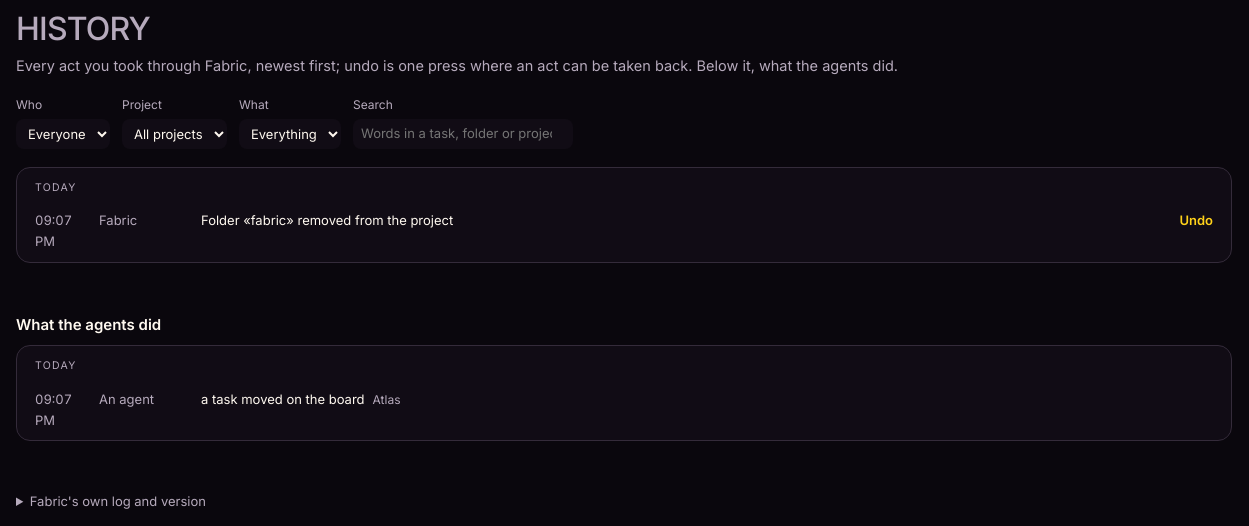
Test: История filters and the act in full (CO-414) › iteration 3 UX-1: «Кто» that matches no agent work says «nothing found» with «Сбросить фильтры», never «the journal is empty»
Check: the list named "Acts" is shown, box [16,167,1232,263]
Select "Fabric" in the dropdown labelled "Who" at (63,134), box [16,119,110,149]
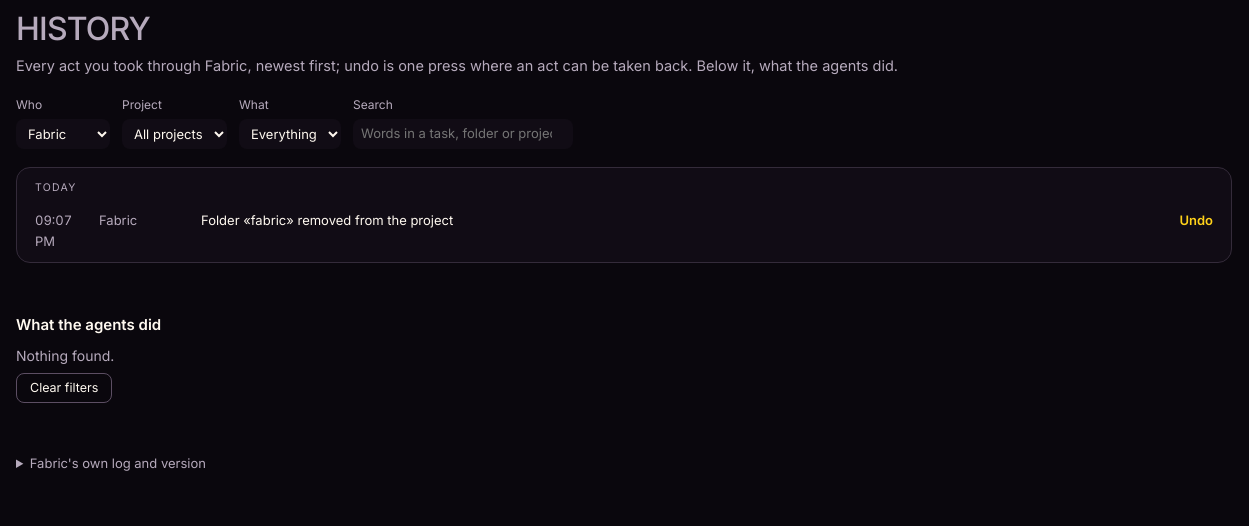
Check: the text "Nothing found." is shown, box [16,345,114,367]
Click the button "Clear filters" at (64,388), box [16,373,112,403]
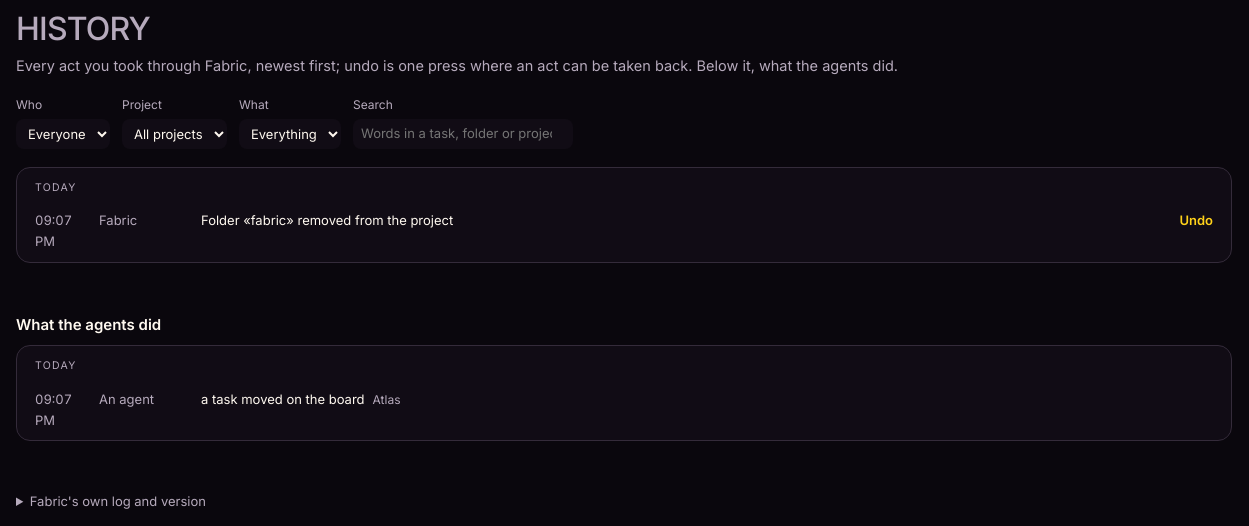
Check: the text "Nothing found." is gone
